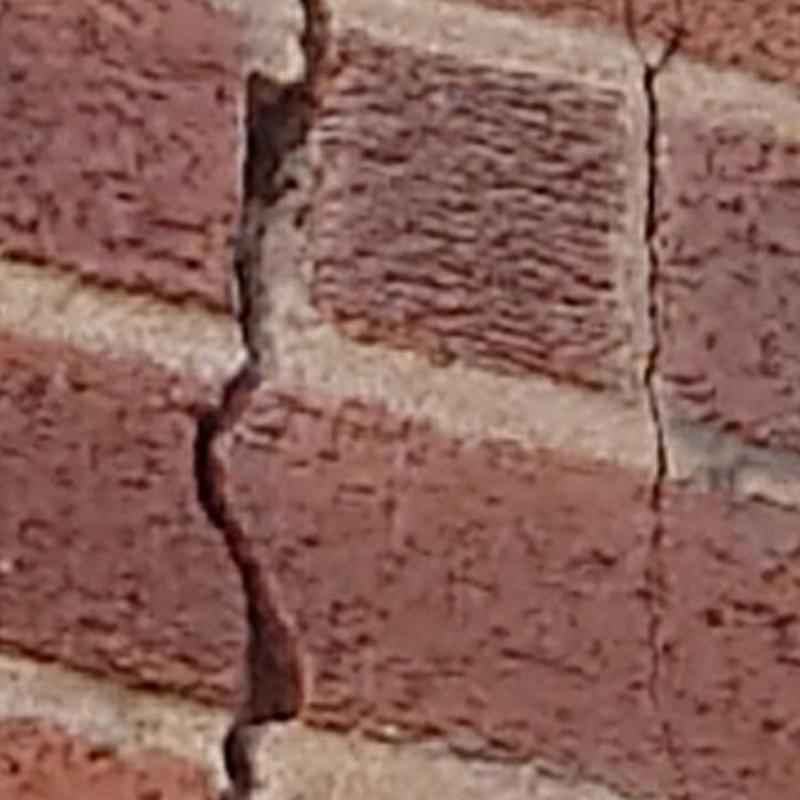pothole: (194, 0, 333, 799), (624, 0, 686, 799)
